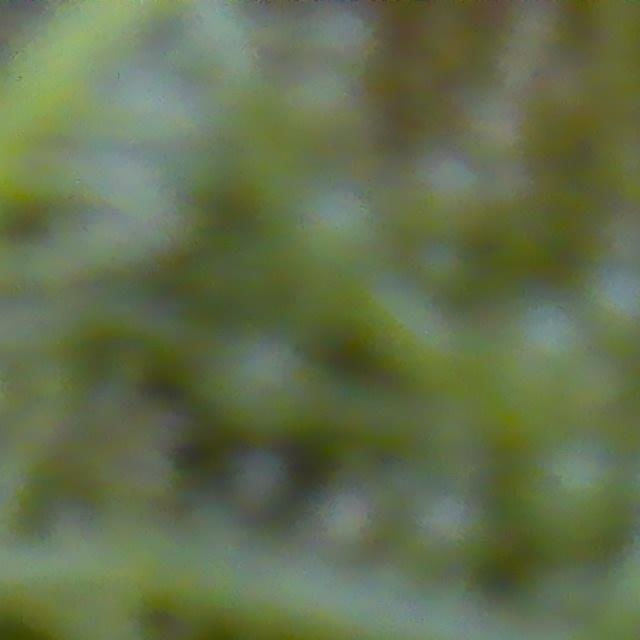SeaGrape: (197, 321, 321, 441), (517, 445, 627, 563), (486, 301, 590, 403), (400, 480, 498, 574), (284, 180, 382, 274), (278, 61, 362, 145), (409, 153, 490, 234), (573, 257, 640, 346), (411, 235, 480, 301), (224, 446, 290, 513)
